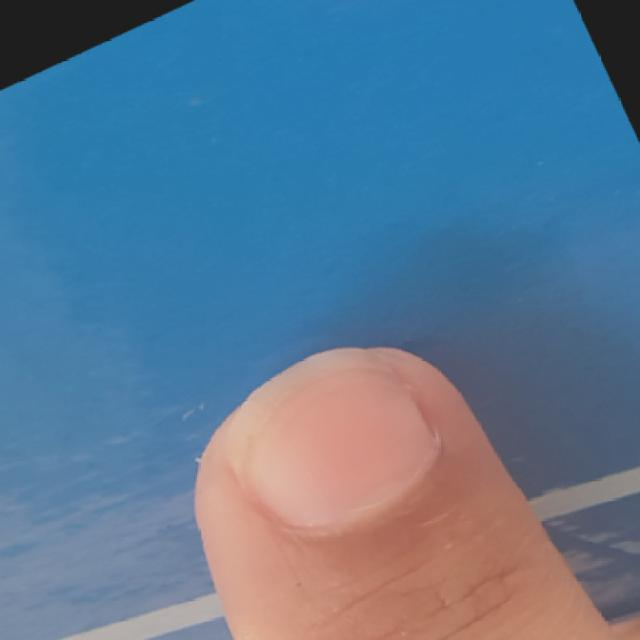Nail: (226, 352, 440, 528)
